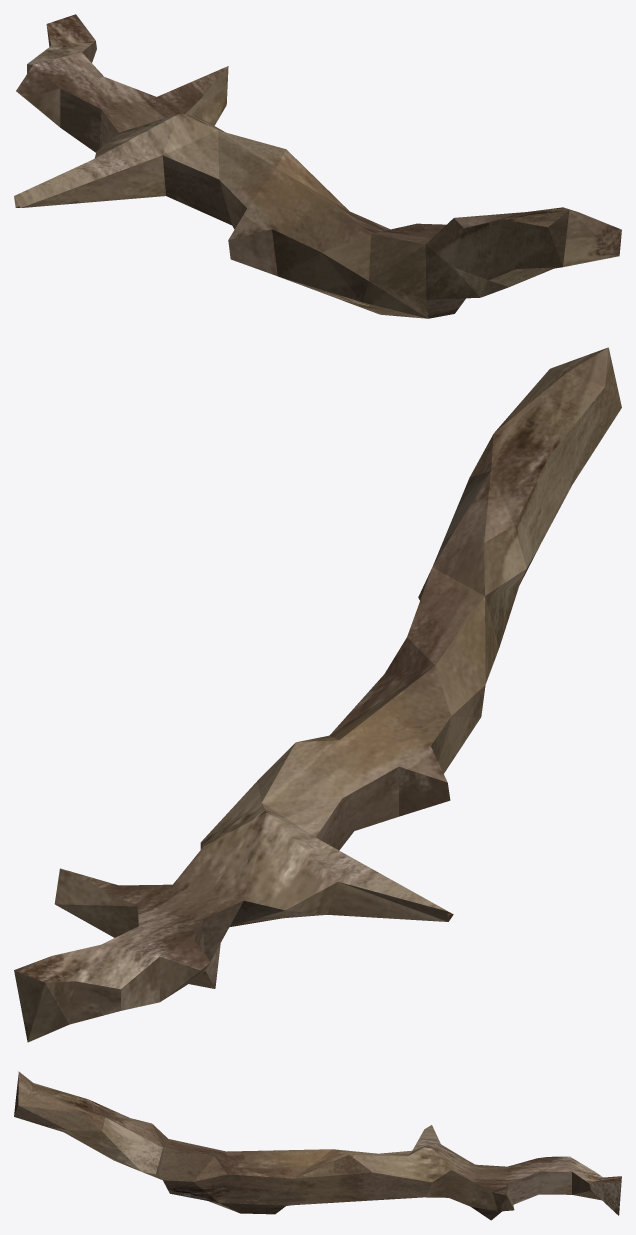
File: branch.fbx
The picture shows the model from 3 angles, top to bottom: view 1: azimuth 30°, elevation 25°; view 2: azimuth 150°, elevation 25°; view 3: azimuth 270°, elevation 25°; orthographic projection. The views are drawn at different scales.
Parts seen in each view (by area): view 1: model; view 2: model; view 3: model.
Boxes of the visible parts, bbox=[...] form: model: bbox=[14, 14, 621, 318]; model: bbox=[14, 347, 621, 1042]; model: bbox=[14, 1071, 621, 1220].
Bounding box in the file's own units: 96.7 × 310 × 87.21.
